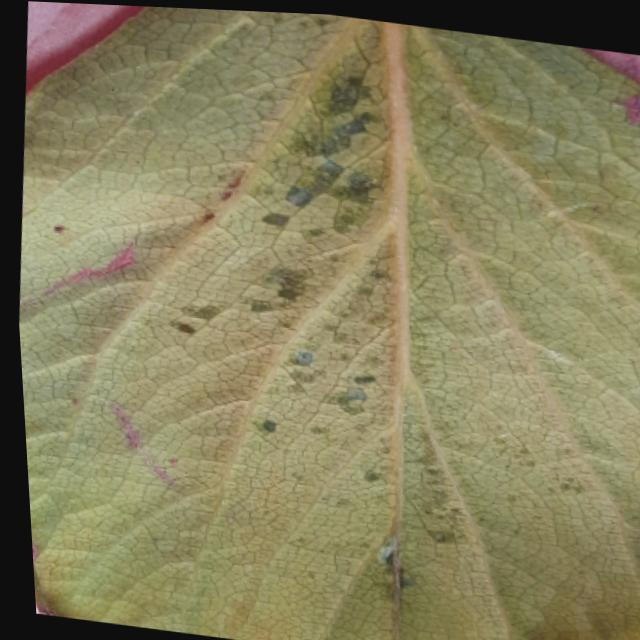Angular Leafspot: (144, 10, 596, 637)
